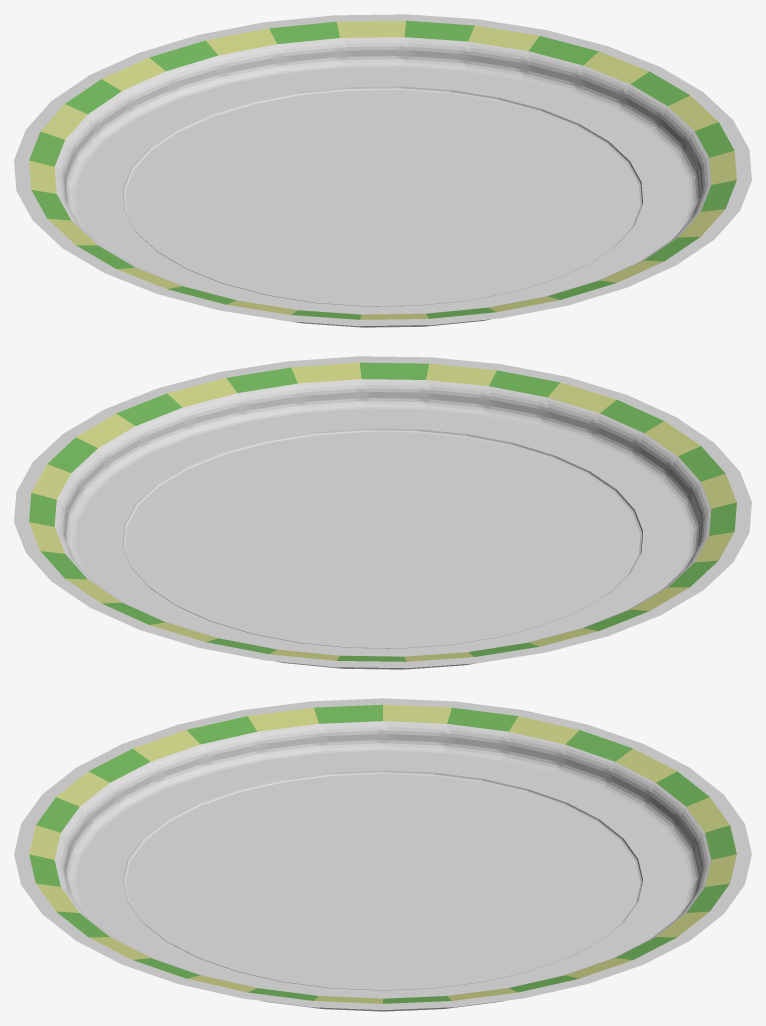
The model's file is plate2.fbx.
3 views of the same model, one above another, from view 1: azimuth 30°, elevation 25°; view 2: azimuth 150°, elevation 25°; view 3: azimuth 270°, elevation 25° (orthographic).
Parts seen in each view (by area): view 1: prato2; view 2: prato2; view 3: prato2.
Part boxes in pixels (left/top/right/bottom): prato2: left=14, top=14, right=751, bottom=327; prato2: left=14, top=356, right=751, bottom=669; prato2: left=14, top=698, right=751, bottom=1011.
Size of the model in its own units: 149 by 6.34 by 149.
